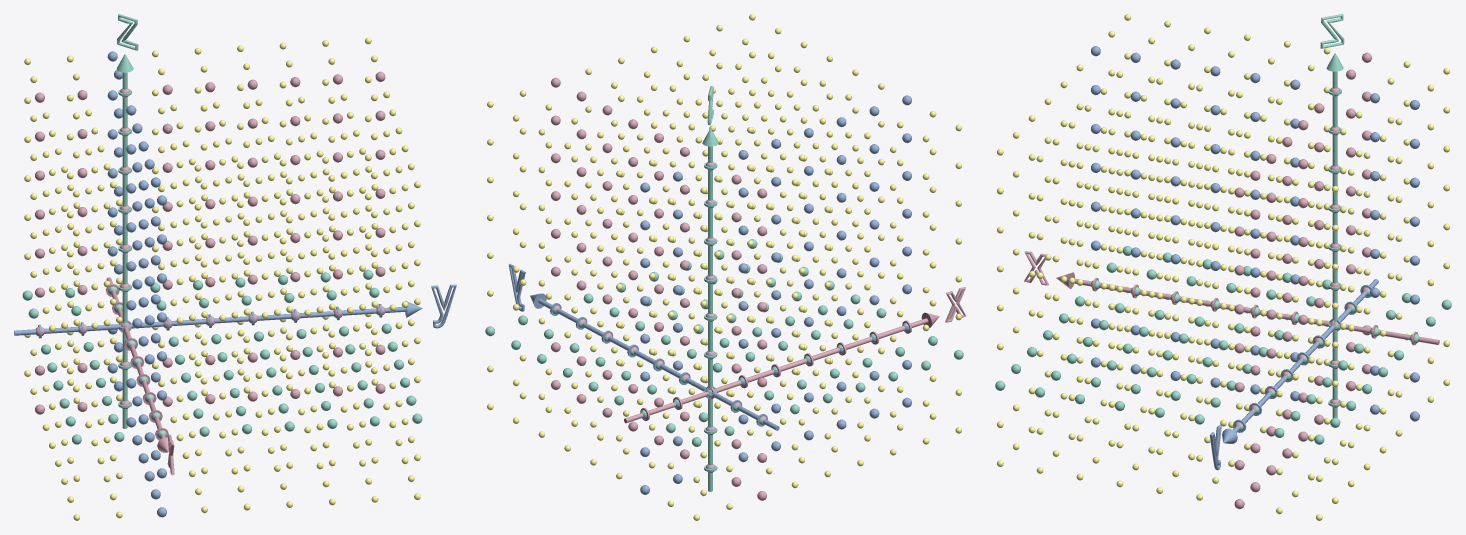
3 views of the same model, side by side, from view 1: azimuth 30°, elevation 25°; view 2: azimuth 150°, elevation 25°; view 3: azimuth 270°, elevation 25° (orthographic). The views are drawn at different scales.
Parts seen in each view (by area): view 1: mat0 (×10); view 2: mat0 (×9); view 3: mat0 (×9).
Boxes of the visible parts, x1,y1,x2,y2 form: mat0 (×10): (14,37,456,520); mat0 (×9): (485,14,963,520); mat0 (×9): (995,14,1451,520).
Bounding box in the file's own units: 2.86 × 2.64 × 2.66.
